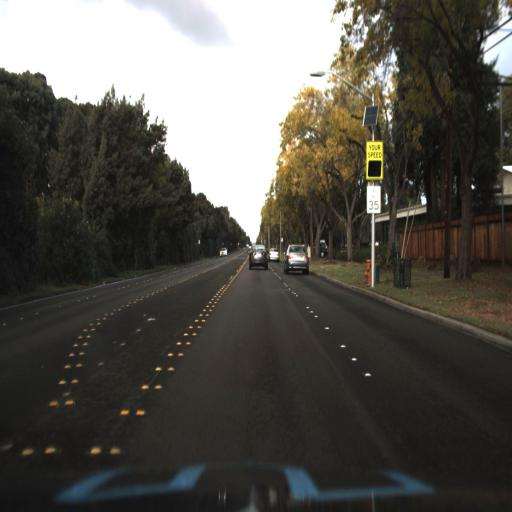car: (281, 240, 313, 275), (244, 237, 271, 276), (218, 242, 229, 264), (267, 246, 279, 265)
